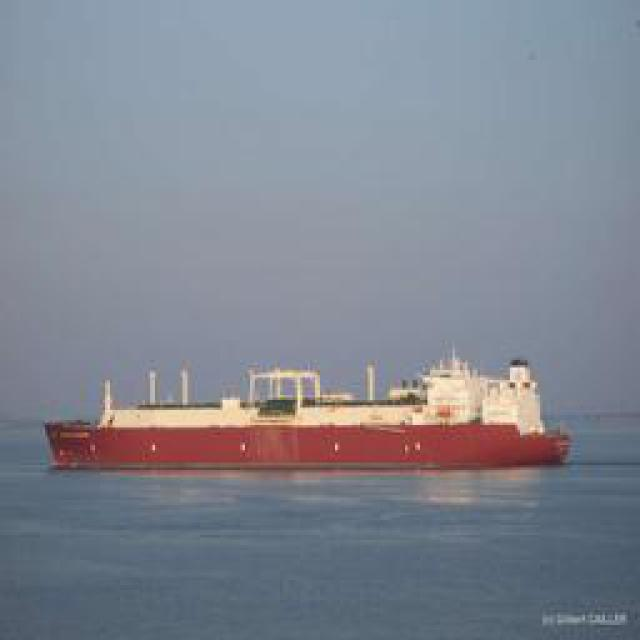Ship: (44, 347, 569, 475)
